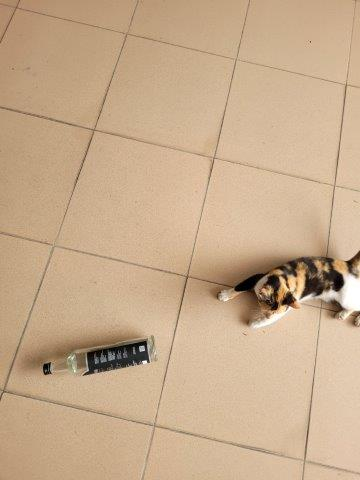botolkaca: (44, 336, 157, 375)
